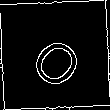O_NE: (22, 22, 88, 88)
